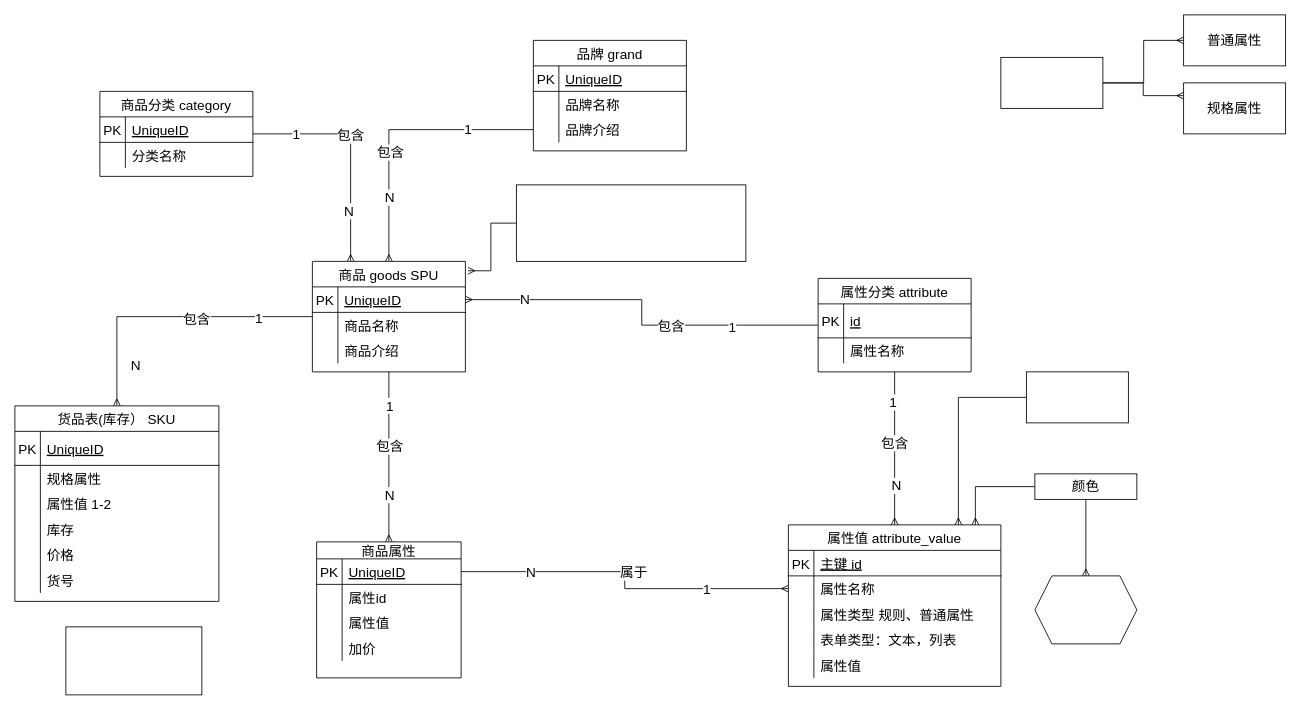
This 1301x710 diagram has some shape labels left out. The shapes that lost their labels are listed below. From the top down, each one's centre as x and y in pixels, then its label:
(x=1051, y=82): 属性
(x=631, y=222): 颜色：______ 颜色：______ 颜色：______ 颜色：______
(x=1077, y=397): 摄像头
(x=1085, y=609): 红、绿、蓝
(x=133, y=660): 1-2 红色-64G 1-3 1-4 2-1
